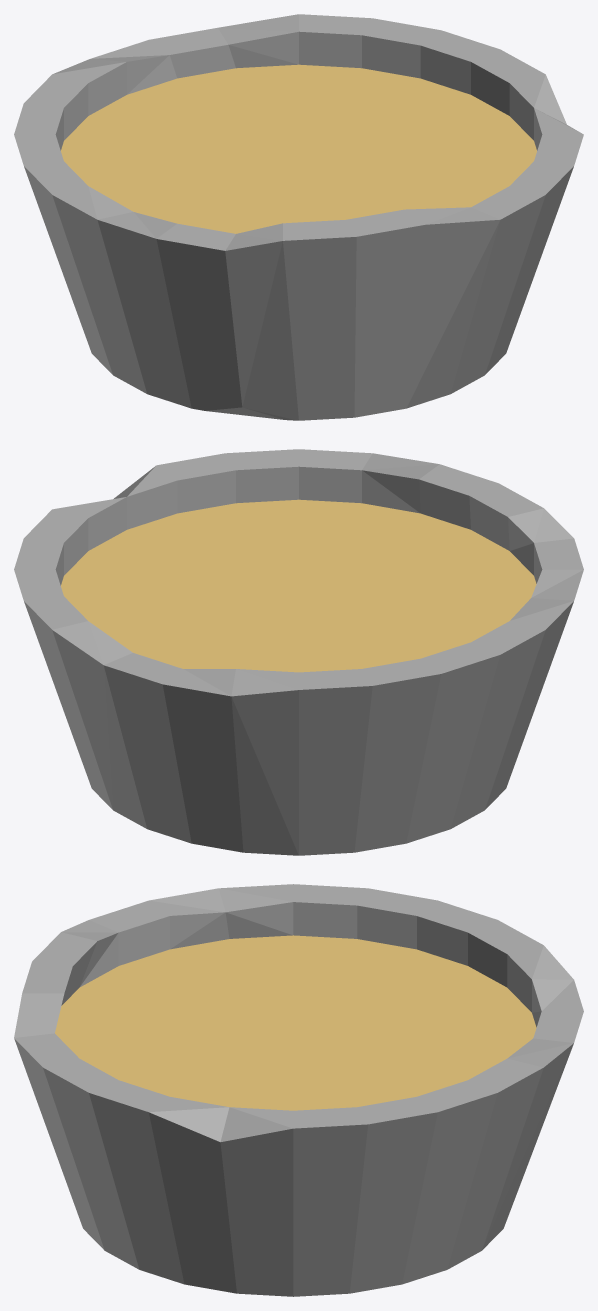
File: dish.fbx
The picture shows the model from 3 angles, top to bottom: view 1: azimuth 30°, elevation 25°; view 2: azimuth 150°, elevation 25°; view 3: azimuth 270°, elevation 25°; orthographic projection.
Visible parts, largest first — view 1: Cylinder.005; view 2: Cylinder.005; view 3: Cylinder.005.
Boxes of the visible parts, x1,y1,x2,y2 form: Cylinder.005: (14, 14, 583, 420); Cylinder.005: (14, 449, 583, 855); Cylinder.005: (14, 884, 583, 1296).
Size of the model in its own units: 134 by 53.06 by 132.
